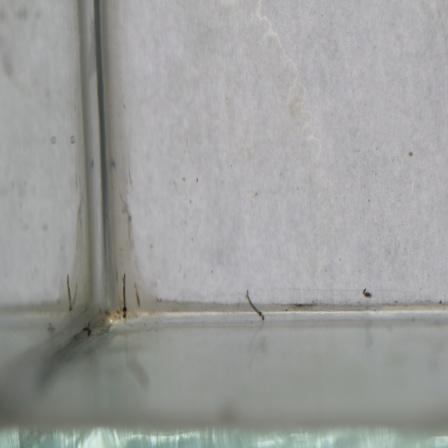Jentik-Nyamuk: (242, 287, 268, 323), (117, 268, 132, 320), (358, 285, 375, 302), (79, 325, 97, 339)
